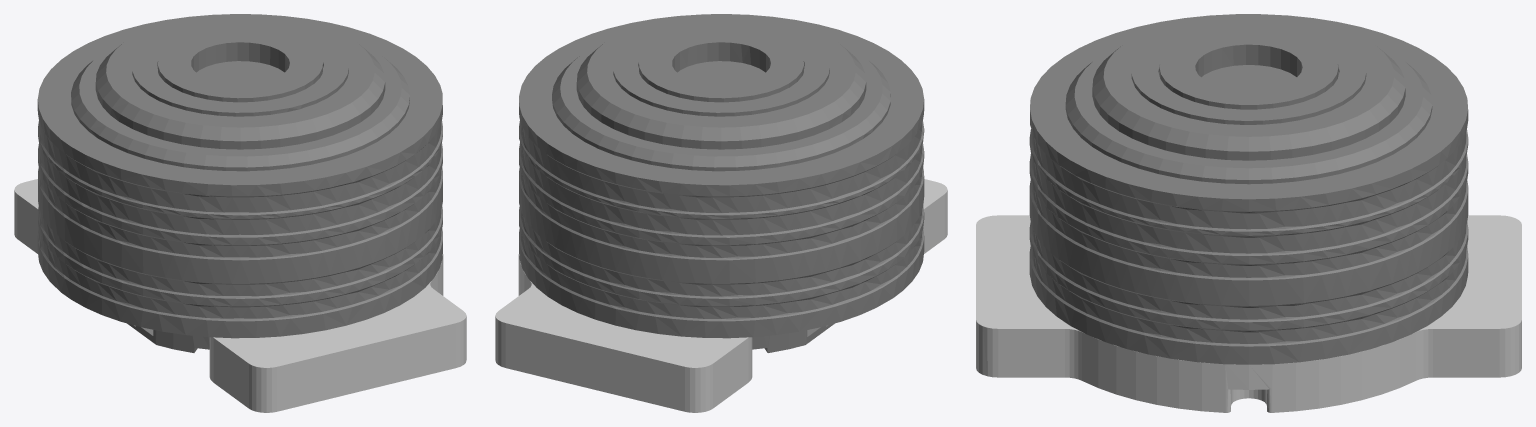
3 views of the same model, side by side, from view 1: azimuth 30°, elevation 25°; view 2: azimuth 150°, elevation 25°; view 3: azimuth 270°, elevation 25° (orthographic). The views are drawn at different scales.
Bounding box in the file's own units: 0.0981 × 0.0625 × 0.122.
1 material, 1 textured.
